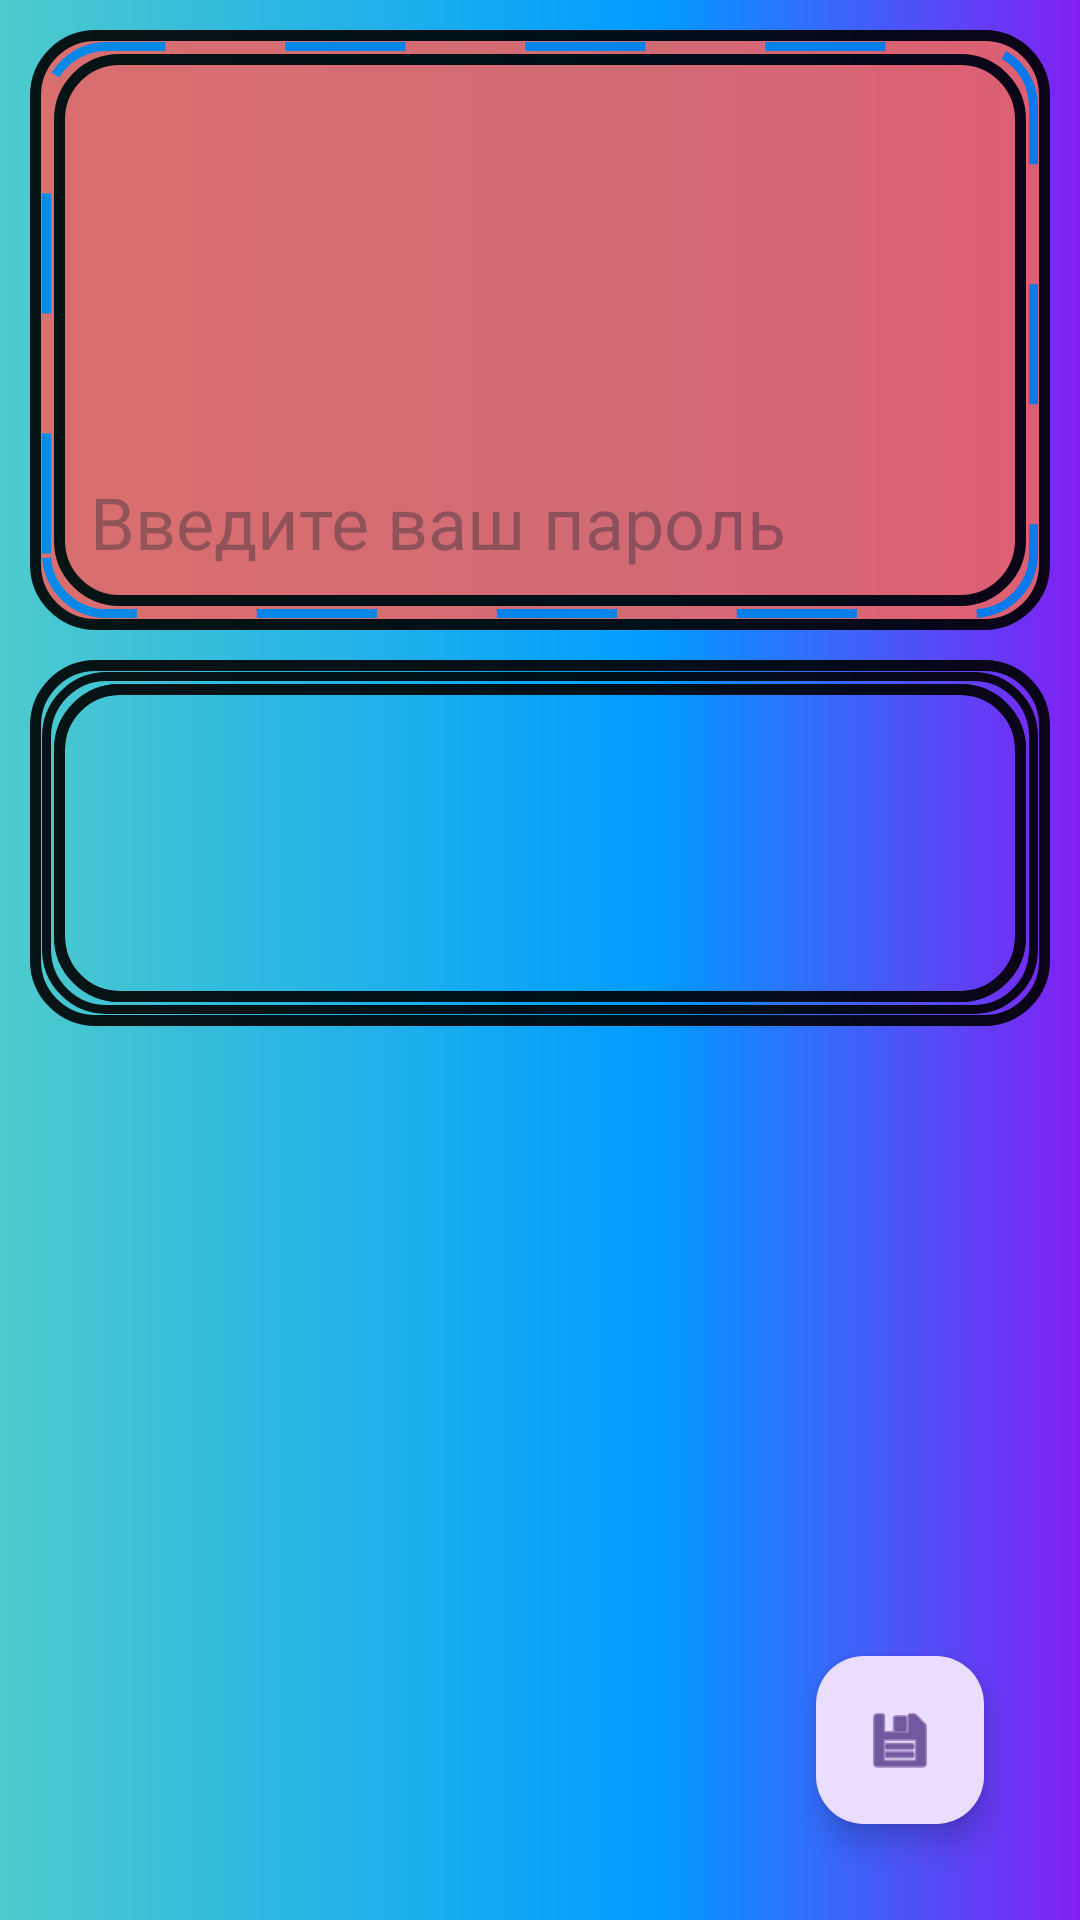

Icons on this 1080w x 1920h Android screen, each with the point to tap as [x,y]:
save: [900,1740]
